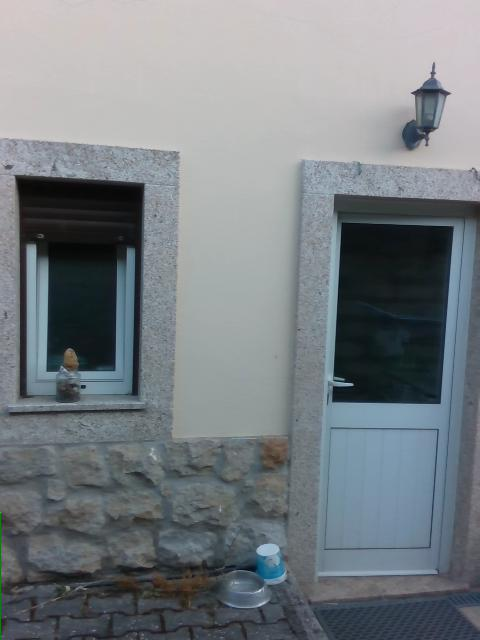door: (311, 206, 476, 582)
